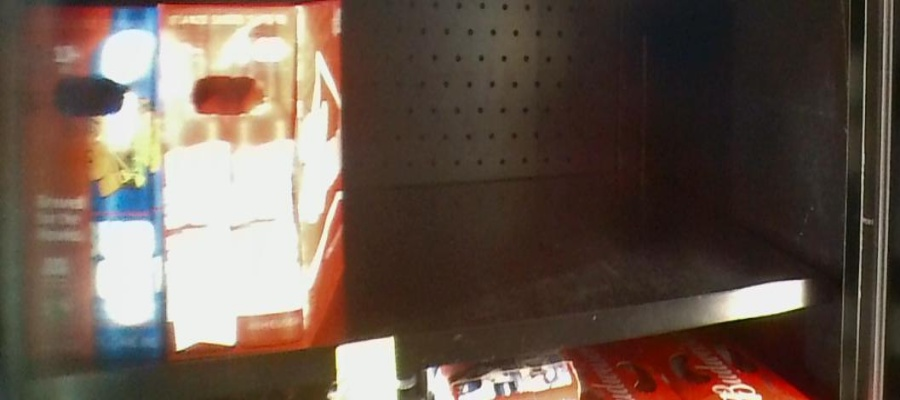bottle: (162, 4, 343, 354), (1, 1, 162, 367)
